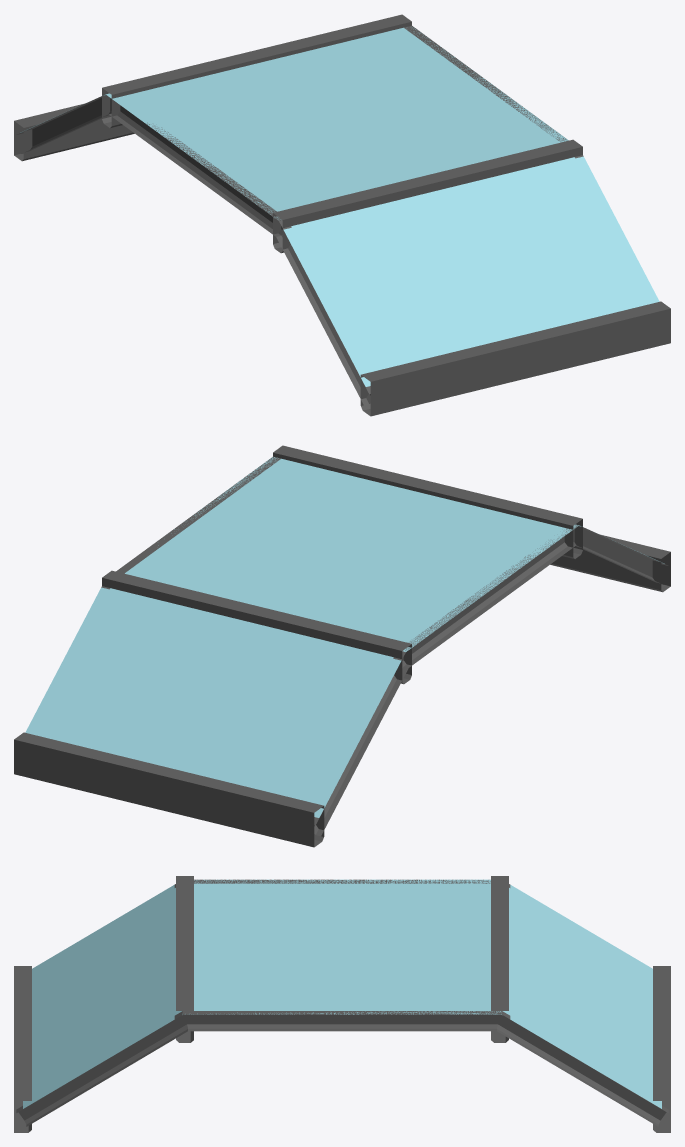
Rendered from SM_GlassCeiling.fbx.
The picture shows the model from 3 angles, top to bottom: view 1: azimuth 30°, elevation 25°; view 2: azimuth 150°, elevation 25°; view 3: azimuth 270°, elevation 25°; orthographic projection. The views are drawn at different scales.
Parts seen in each view (by area): view 1: SM_GlassCeiling; view 2: SM_GlassCeiling; view 3: SM_GlassCeiling.
Boxes of the visible parts, box(x1,y1,x2,y2) form: SM_GlassCeiling: box(14, 14, 670, 416); SM_GlassCeiling: box(14, 445, 670, 847); SM_GlassCeiling: box(14, 876, 670, 1132).
Size of the model in its own units: 200 by 84.06 by 411.
